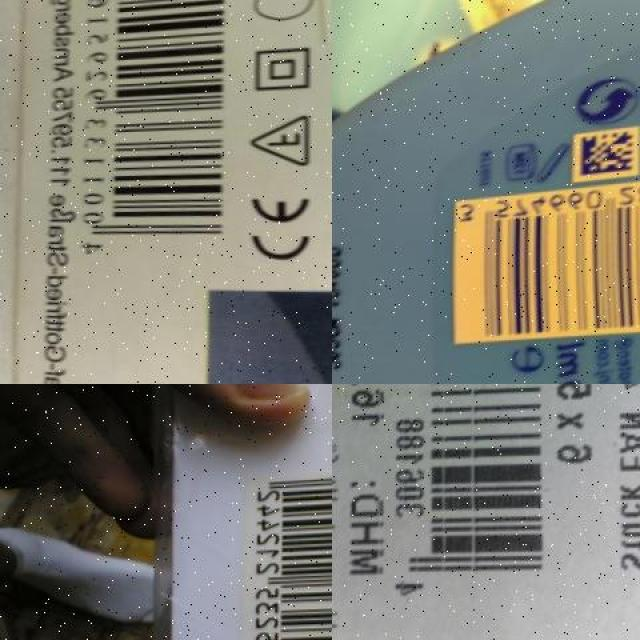Barcode: (75, 0, 245, 267), (388, 384, 556, 607), (452, 169, 640, 344), (240, 470, 332, 640)
